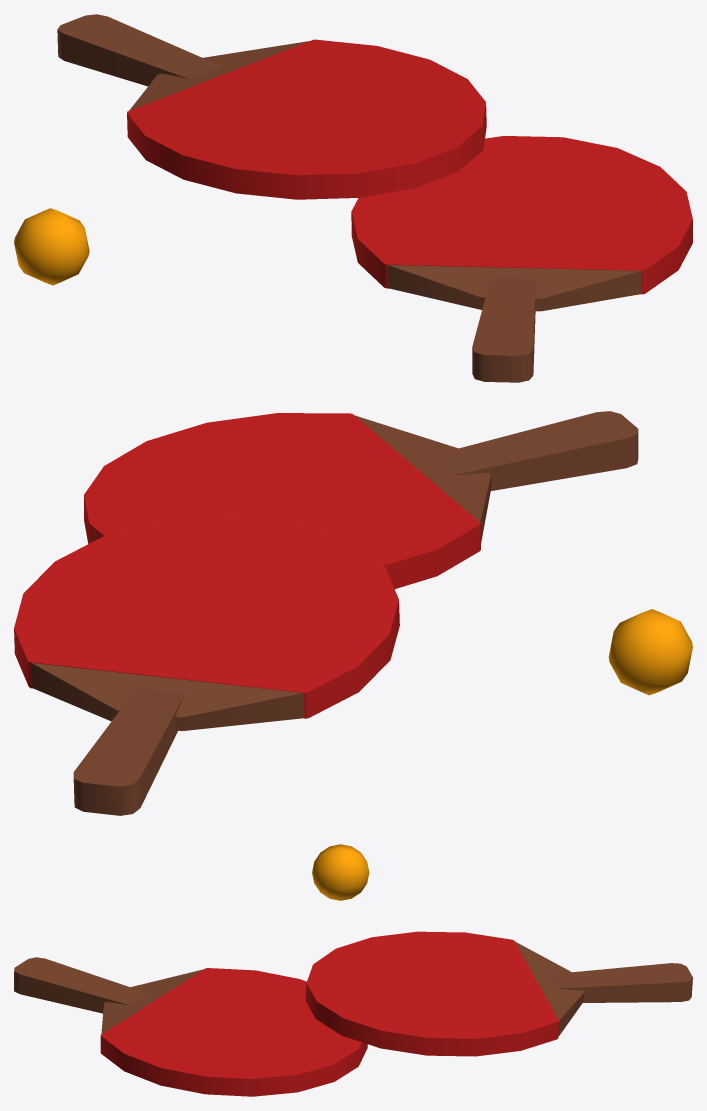
The model's file is Pingpong tools.fbx.
3 views of the same model, one above another, from view 1: azimuth 30°, elevation 25°; view 2: azimuth 150°, elevation 25°; view 3: azimuth 270°, elevation 25° (orthographic). The views are drawn at different scales.
Parts seen in each view (by area): view 1: pingpong001.004; view 2: pingpong001.004; view 3: pingpong001.004.
Boxes of the visible parts, left/top/right/bottom form: pingpong001.004: left=14, top=14, right=692, bottom=382; pingpong001.004: left=14, top=411, right=692, bottom=815; pingpong001.004: left=14, top=844, right=692, bottom=1096.
Size of the model in its own units: 93.57 by 128 by 10.78.
